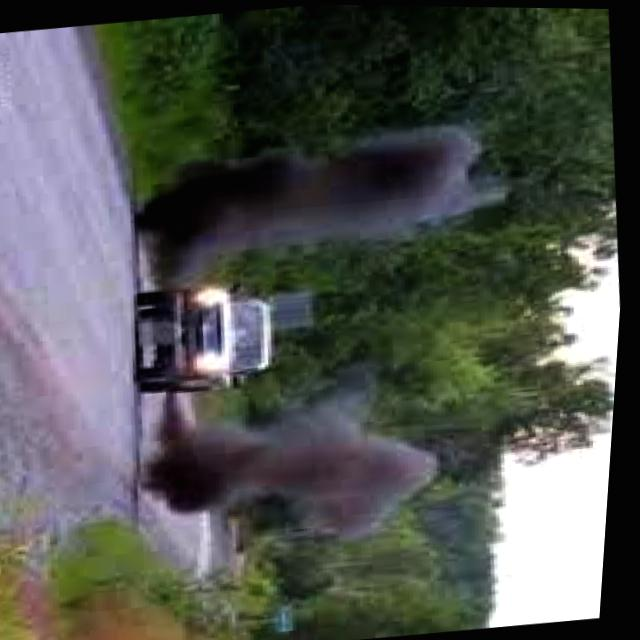Smoke: (117, 93, 520, 306), (121, 359, 457, 564)
